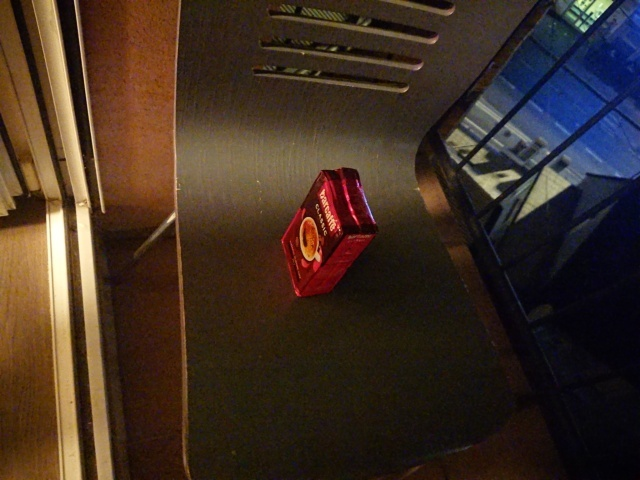Barcaffe Classic Original 225g: (278, 166, 382, 300)
